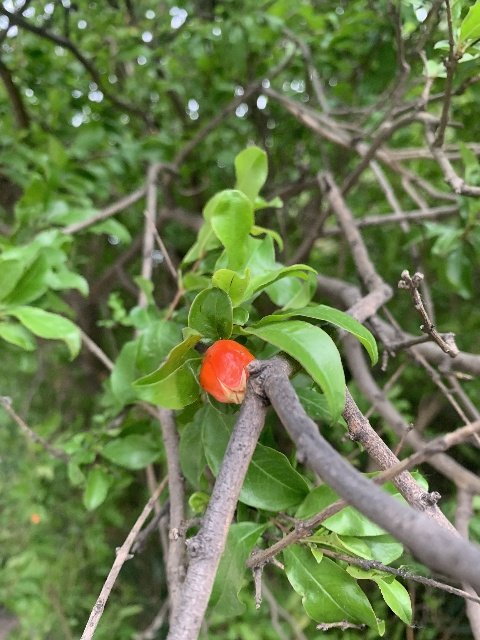bud: (199, 338, 255, 404)
